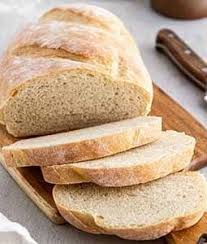bread: (4, 2, 207, 237)
